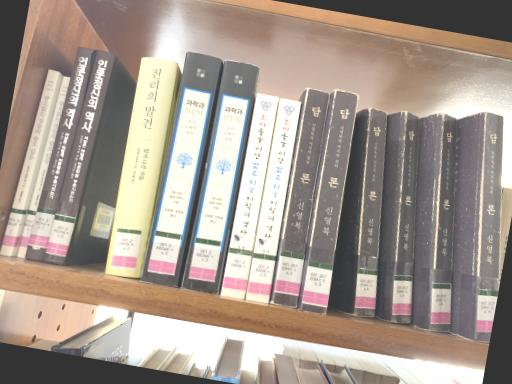book-spine: (141, 52, 222, 287), (181, 60, 259, 293), (105, 57, 177, 278), (25, 46, 95, 260), (45, 49, 114, 266), (301, 90, 359, 314), (273, 88, 330, 308), (221, 93, 279, 299), (0, 69, 60, 256), (248, 98, 301, 302), (17, 75, 71, 258), (356, 108, 388, 316), (476, 112, 503, 342), (392, 110, 419, 322), (431, 113, 457, 331)
